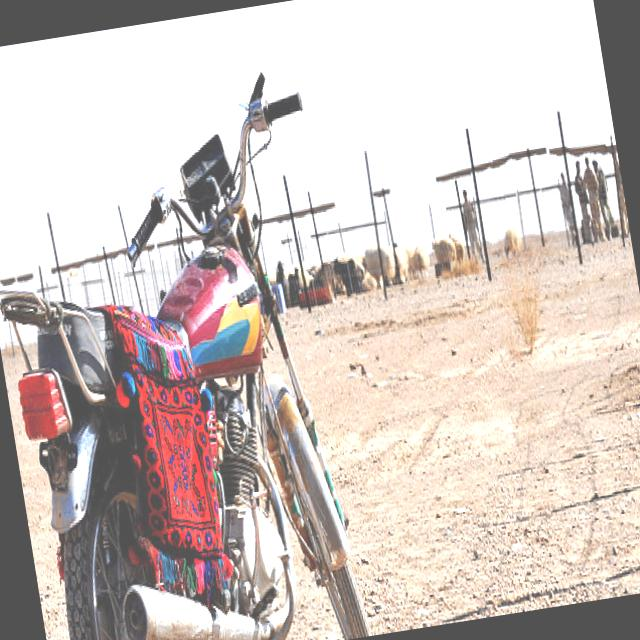Vehicle: (0, 116, 369, 640)
